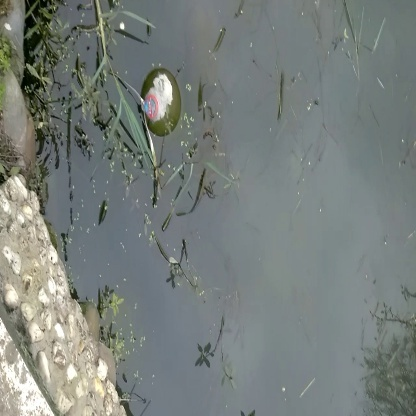plastic-bag: (137, 59, 183, 132)
